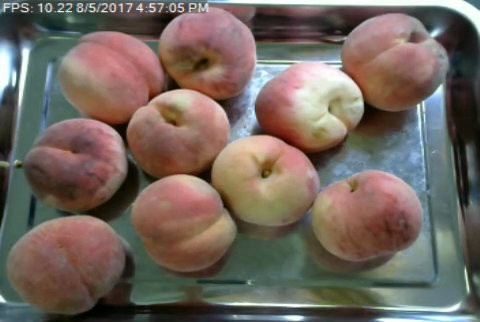Peach: (7, 215, 125, 314), (341, 11, 447, 112), (310, 170, 423, 261), (132, 172, 234, 272), (60, 28, 163, 127), (210, 135, 317, 228), (254, 60, 359, 153), (24, 118, 128, 211), (126, 88, 230, 178), (159, 6, 256, 100)
